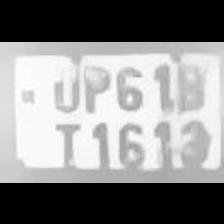1: (147, 114, 175, 170), (83, 116, 111, 168), (149, 57, 175, 110)
6: (110, 60, 146, 112), (114, 115, 146, 167)
P: (78, 58, 110, 114)
T: (46, 117, 82, 165)
U: (46, 65, 80, 113)
